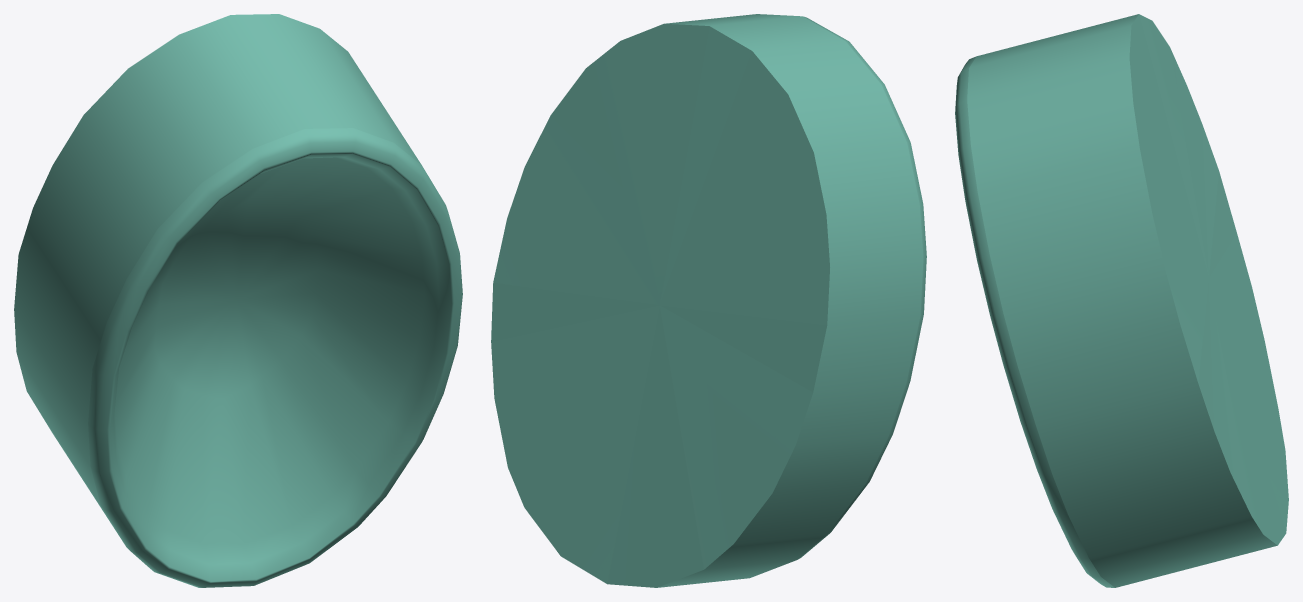
Rendered from BL1_8shapes_Oval_Classic_Metal.001 3.glb.
The picture shows the model from 3 angles, left to right: view 1: azimuth 30°, elevation 25°; view 2: azimuth 150°, elevation 25°; view 3: azimuth 270°, elevation 25°; orthographic projection. The views are drawn at different scales.
Parts seen in each view (by area): view 1: BL1_8shapes_Oval_Classic_Metal.001; view 2: BL1_8shapes_Oval_Classic_Metal.001; view 3: BL1_8shapes_Oval_Classic_Metal.001.
Boxes of the visible parts, left/top/right/bottom form: BL1_8shapes_Oval_Classic_Metal.001: left=14, top=14, right=462, bottom=587; BL1_8shapes_Oval_Classic_Metal.001: left=491, top=14, right=926, bottom=587; BL1_8shapes_Oval_Classic_Metal.001: left=955, top=14, right=1288, bottom=587.
Size of the model in its own units: 0.4379 by 0.6539 by 0.3635.
